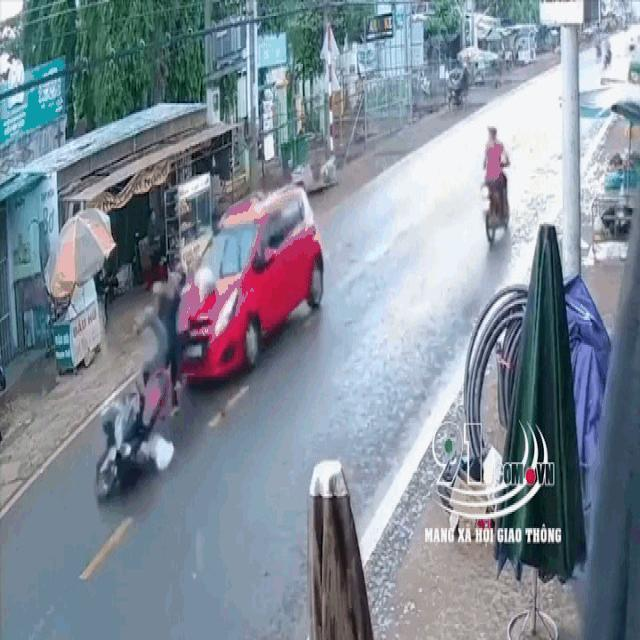multiple_accident: (86, 183, 329, 512)
normal: (457, 101, 527, 253)
